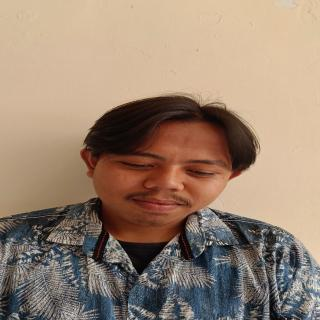Sedih: (88, 120, 239, 227)
